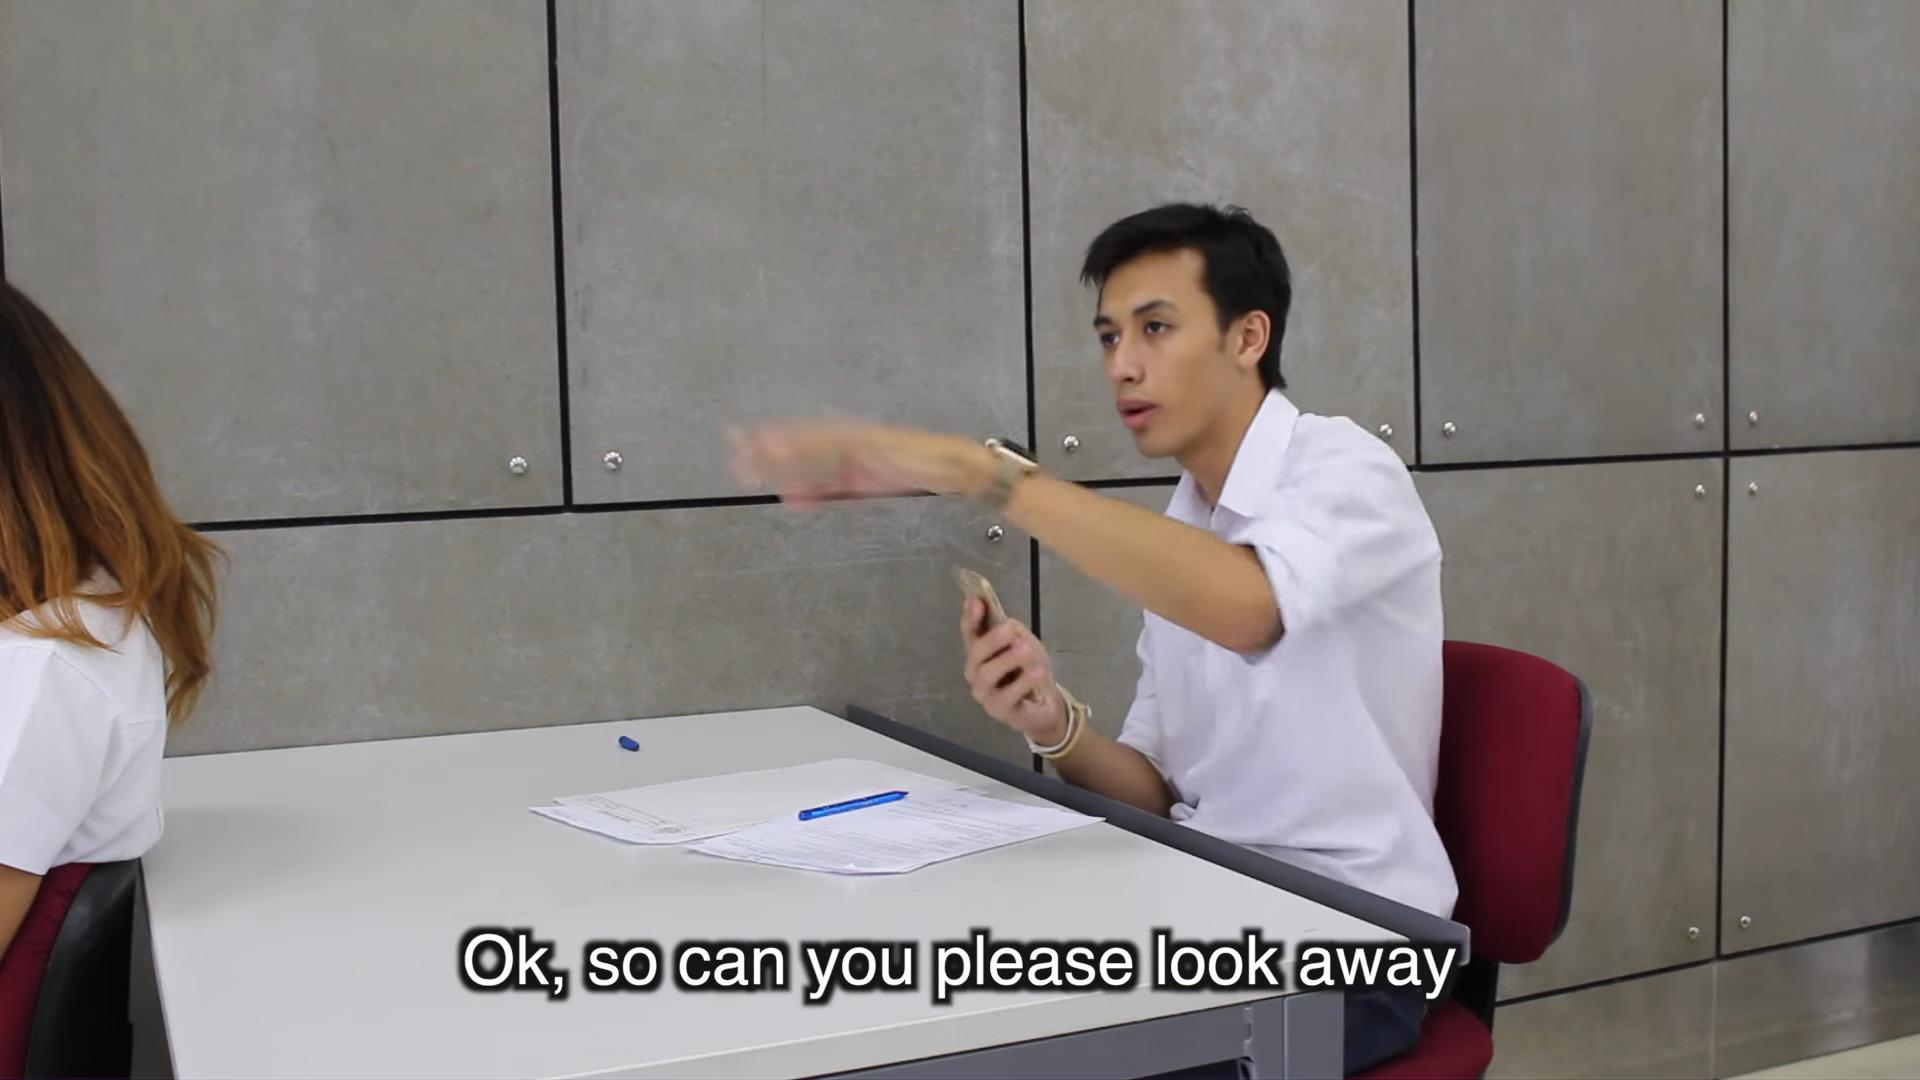cheating: (505, 117, 1520, 902)
